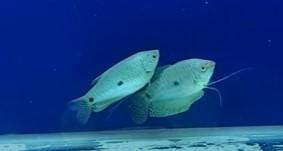Gourami: (66, 50, 160, 122), (128, 57, 217, 127)
